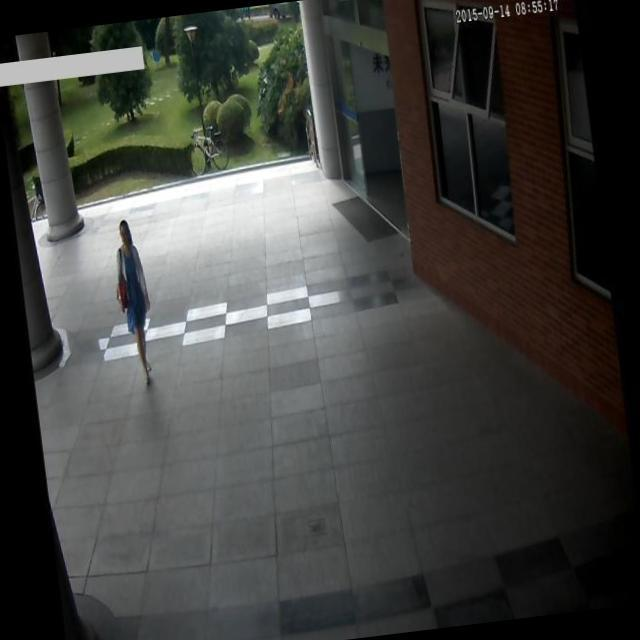person: (106, 212, 167, 399)
